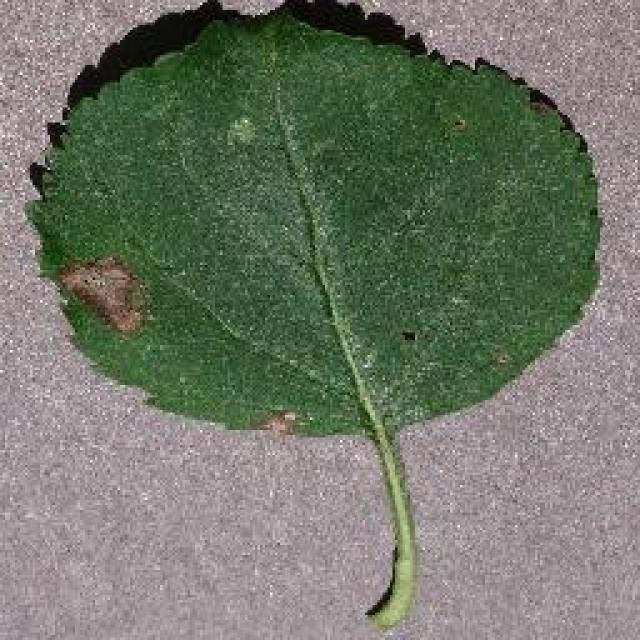black_rot: (53, 250, 168, 339), (246, 399, 312, 436)
